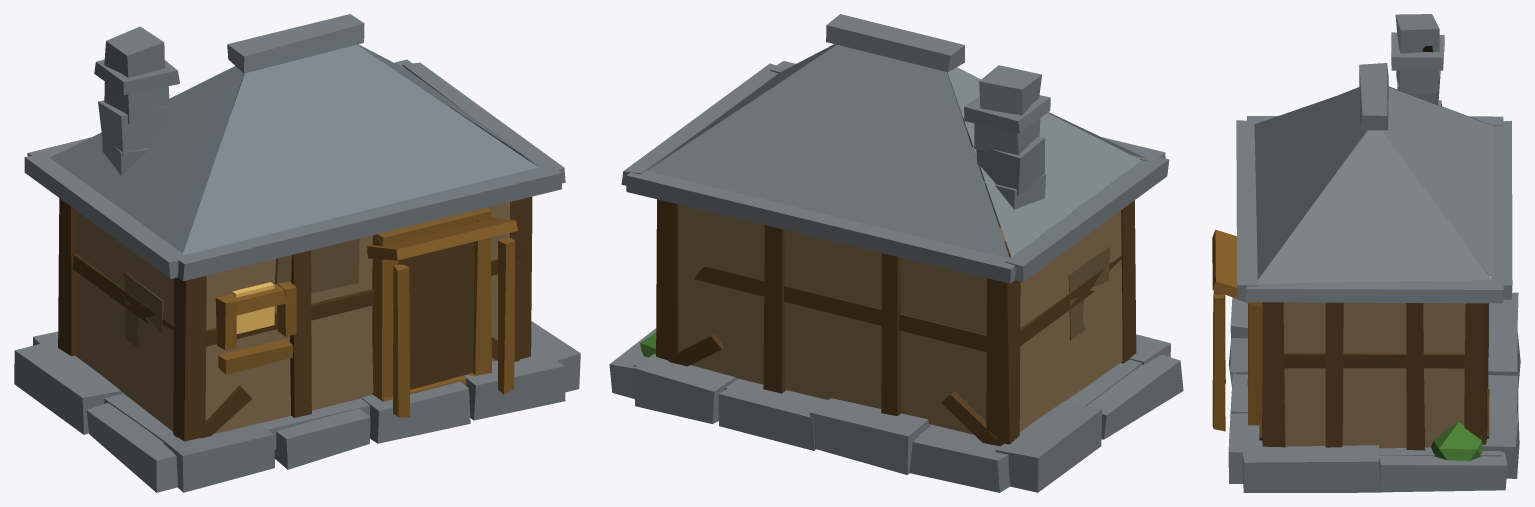
Rendered from hutrect_b.glb.
3 views of the same model, side by side, from view 1: azimuth 30°, elevation 25°; view 2: azimuth 150°, elevation 25°; view 3: azimuth 270°, elevation 25° (orthographic). The views are drawn at different scales.
Visible parts, largest first — view 1: hut_b_roof, hut_b_plinth, hut_b_daub, hut_b_frame, hut_b_door, hut_b_chimney, hut_b_awning, hut_b_doorframe, hut_b_winframe, hut_b_daub_patches, hut_b_glass; view 2: hut_b_roof, hut_b_daub, hut_b_plinth, hut_b_frame, hut_b_chimney, hut_b_daub_patches; view 3: hut_b_roof, hut_b_plinth, hut_b_daub, hut_b_frame, hut_b_chimney, hut_b_awning, hut_b_doorframe, hut_b_bush.
Boxes of the visible parts, x1,y1,x2,y2 form: hut_b_roof: (24, 14, 565, 281); hut_b_plinth: (14, 321, 580, 492); hut_b_daub: (76, 202, 510, 433); hut_b_frame: (58, 90, 532, 441); hut_b_door: (398, 241, 474, 389); hut_b_chimney: (94, 26, 179, 175); hut_b_awning: (367, 217, 517, 417); hut_b_doorframe: (372, 207, 492, 401); hut_b_winframe: (215, 281, 296, 374); hut_b_daub_patches: (124, 238, 359, 348); hut_b_glass: (232, 282, 274, 334); hut_b_roof: (621, 14, 1169, 283); hut_b_daub: (678, 147, 1122, 434); hut_b_plinth: (609, 328, 1183, 492); hut_b_frame: (656, 76, 1136, 446); hut_b_chimney: (964, 65, 1050, 227); hut_b_daub_patches: (1068, 246, 1110, 340); hut_b_roof: (1236, 63, 1512, 303); hut_b_plinth: (1228, 292, 1520, 492); hut_b_daub: (1283, 302, 1465, 448); hut_b_frame: (1259, 255, 1489, 450); hut_b_chimney: (1391, 14, 1444, 106); hut_b_awning: (1212, 229, 1262, 431); hut_b_doorframe: (1247, 303, 1262, 425); hut_b_bush: (1431, 422, 1482, 460).
Bounding box in the file's own units: 3.23 × 2.66 × 2.28.
